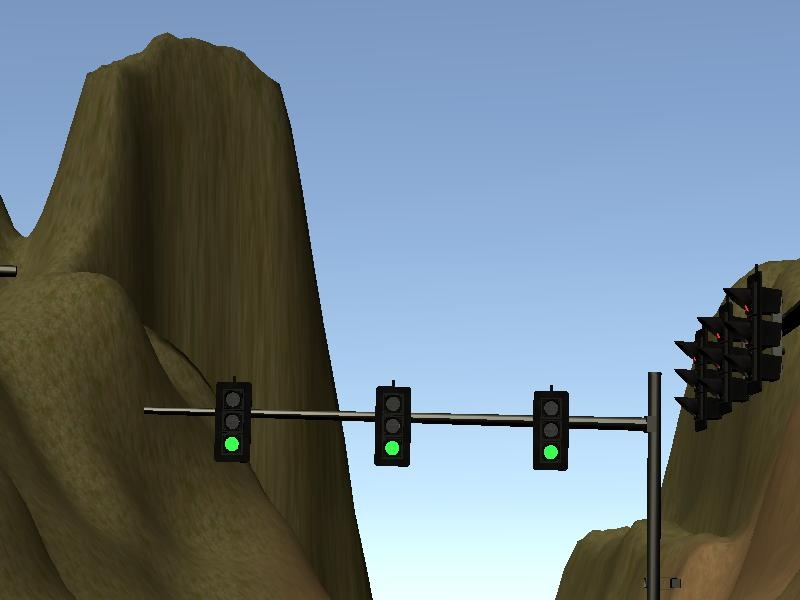green: (372, 381, 415, 471), (212, 381, 250, 462), (533, 388, 569, 471)
